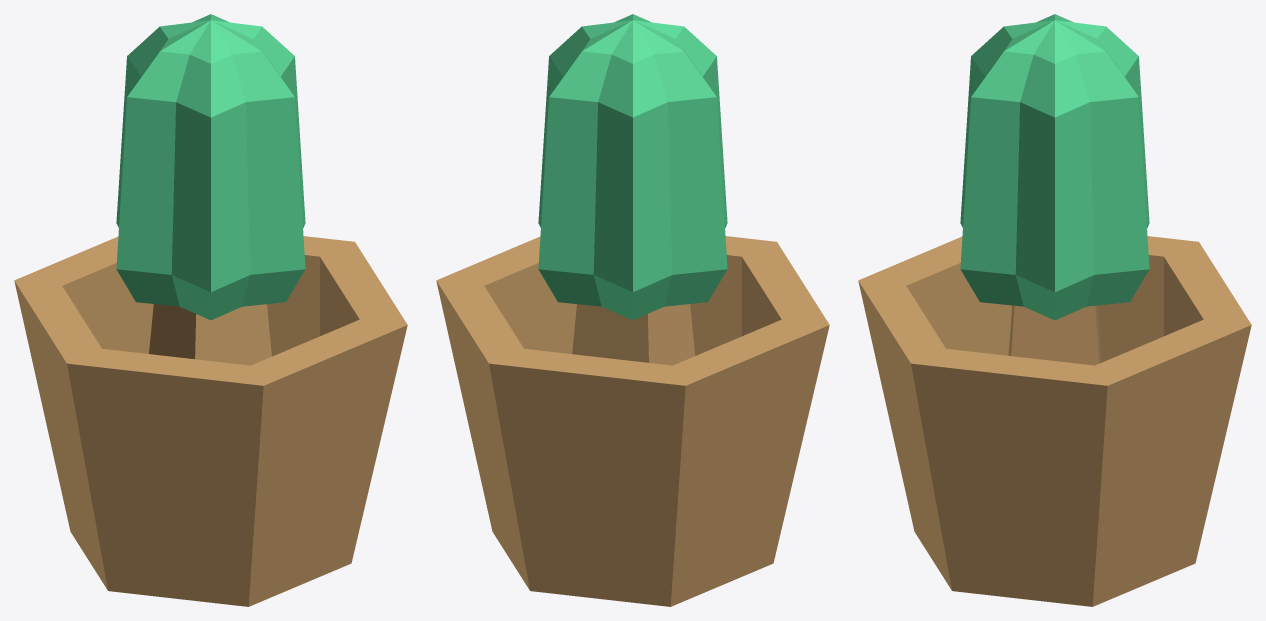
File: plantSmall2.glb
3 views of the same model, side by side, from view 1: azimuth 30°, elevation 25°; view 2: azimuth 150°, elevation 25°; view 3: azimuth 270°, elevation 25° (orthographic).
Size of the model in its own units: 0.9466 by 1.4 by 0.9466.
